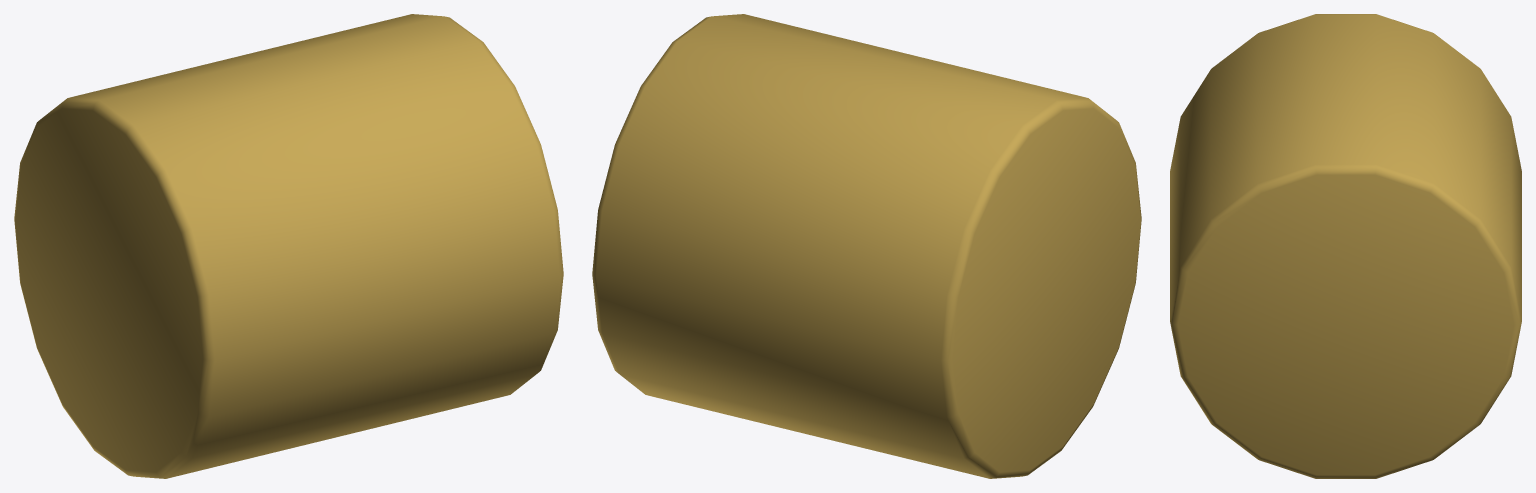
Rendered from prop_bale.obj.
The picture shows the model from 3 angles, left to right: view 1: azimuth 30°, elevation 25°; view 2: azimuth 150°, elevation 25°; view 3: azimuth 270°, elevation 25°; orthographic projection. The views are drawn at different scales.
Visible parts, largest first — view 1: Bale; view 2: Bale; view 3: Bale.
Part boxes in pixels (bbox=[...]): Bale: bbox=[14, 14, 563, 478]; Bale: bbox=[592, 14, 1141, 478]; Bale: bbox=[1170, 14, 1521, 478].
Size of the model in its own units: 0.95 by 0.8863 by 0.9.
